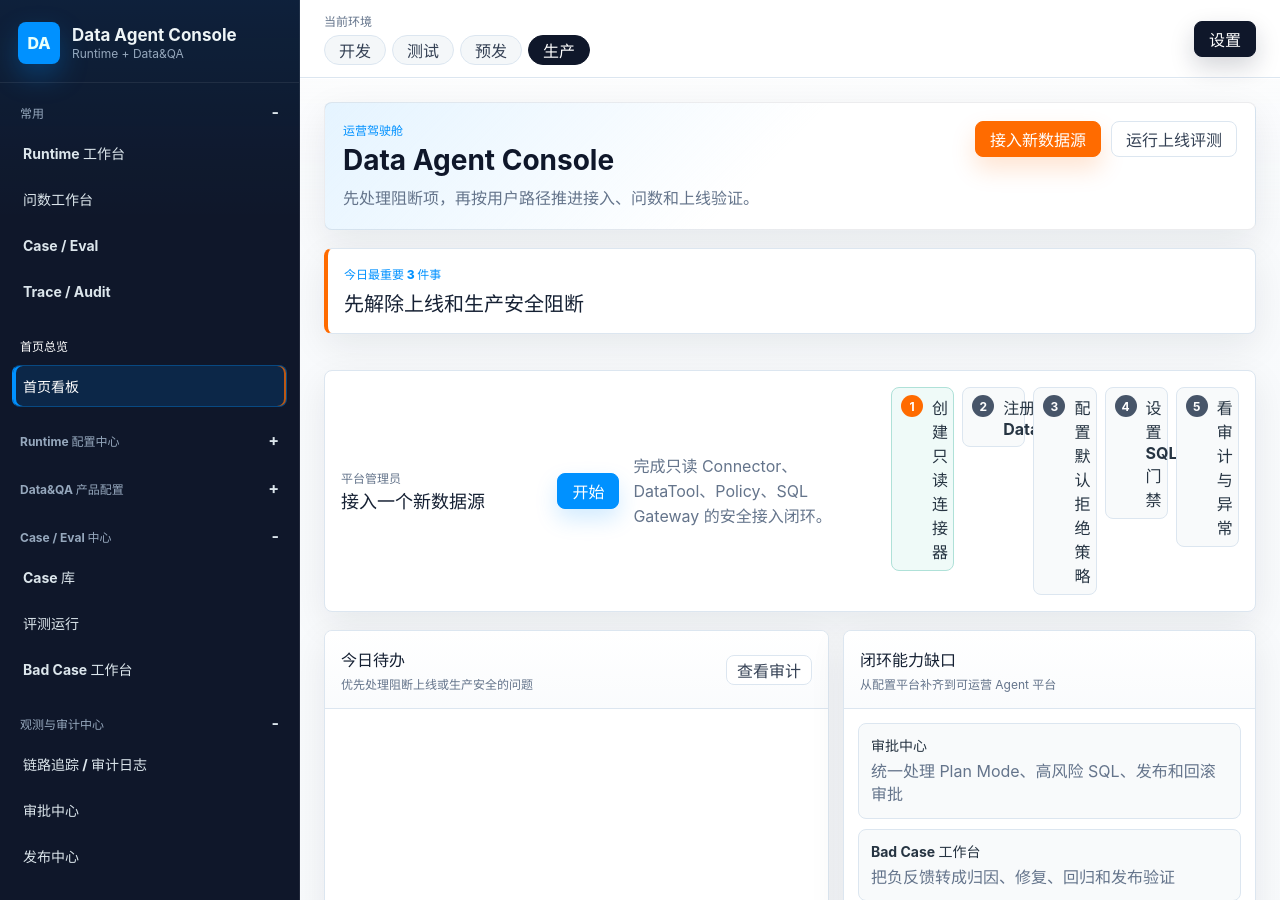
Scenario: Data Agent Console MVP › runs Data&QA workspace and routes negative feedback to Bad Case
Click the button "问数工作台" at (58, 200), box [12,178,287,220]
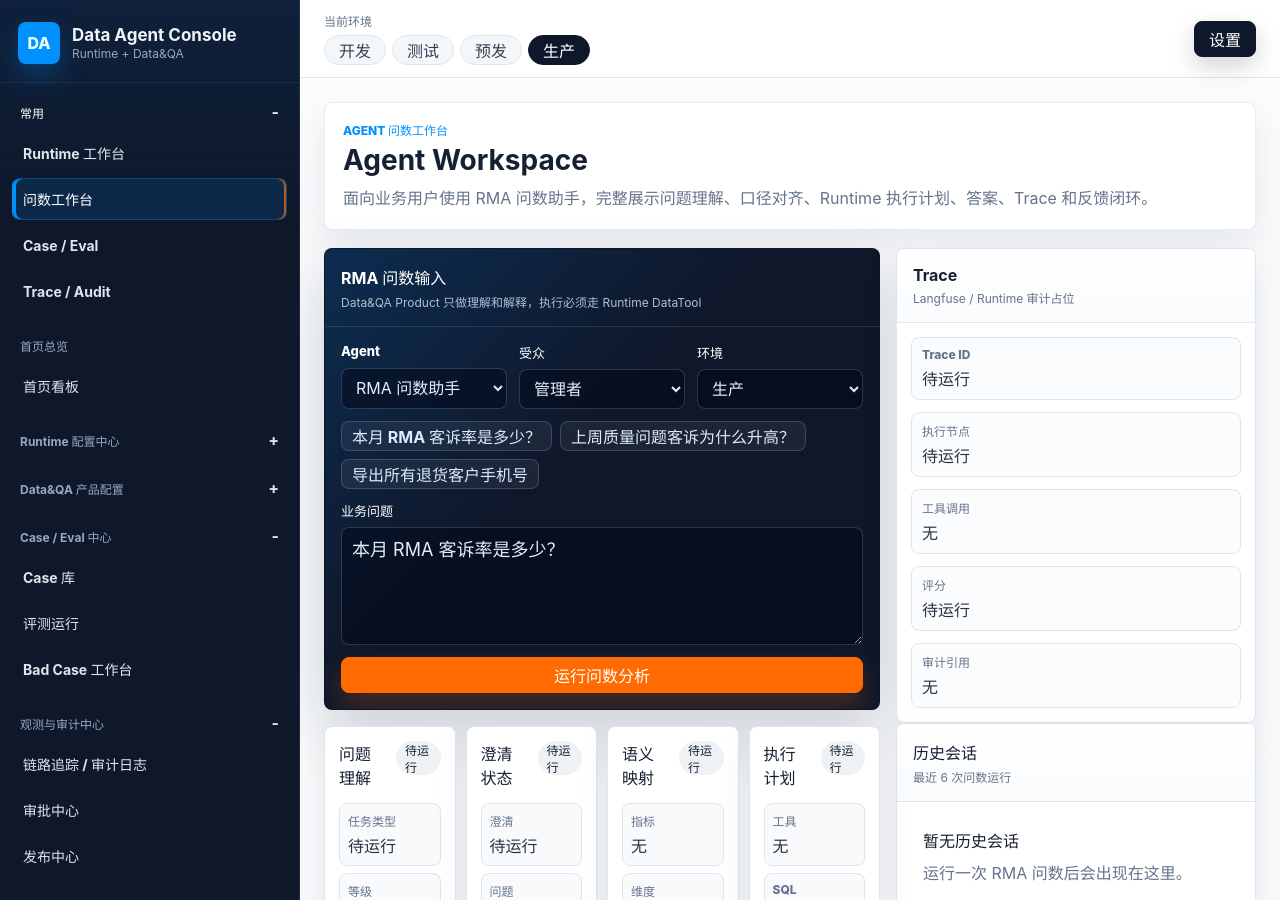
Click the button "运行问数分析" at (602, 675), box [341,657,863,693]
(page scrolled)
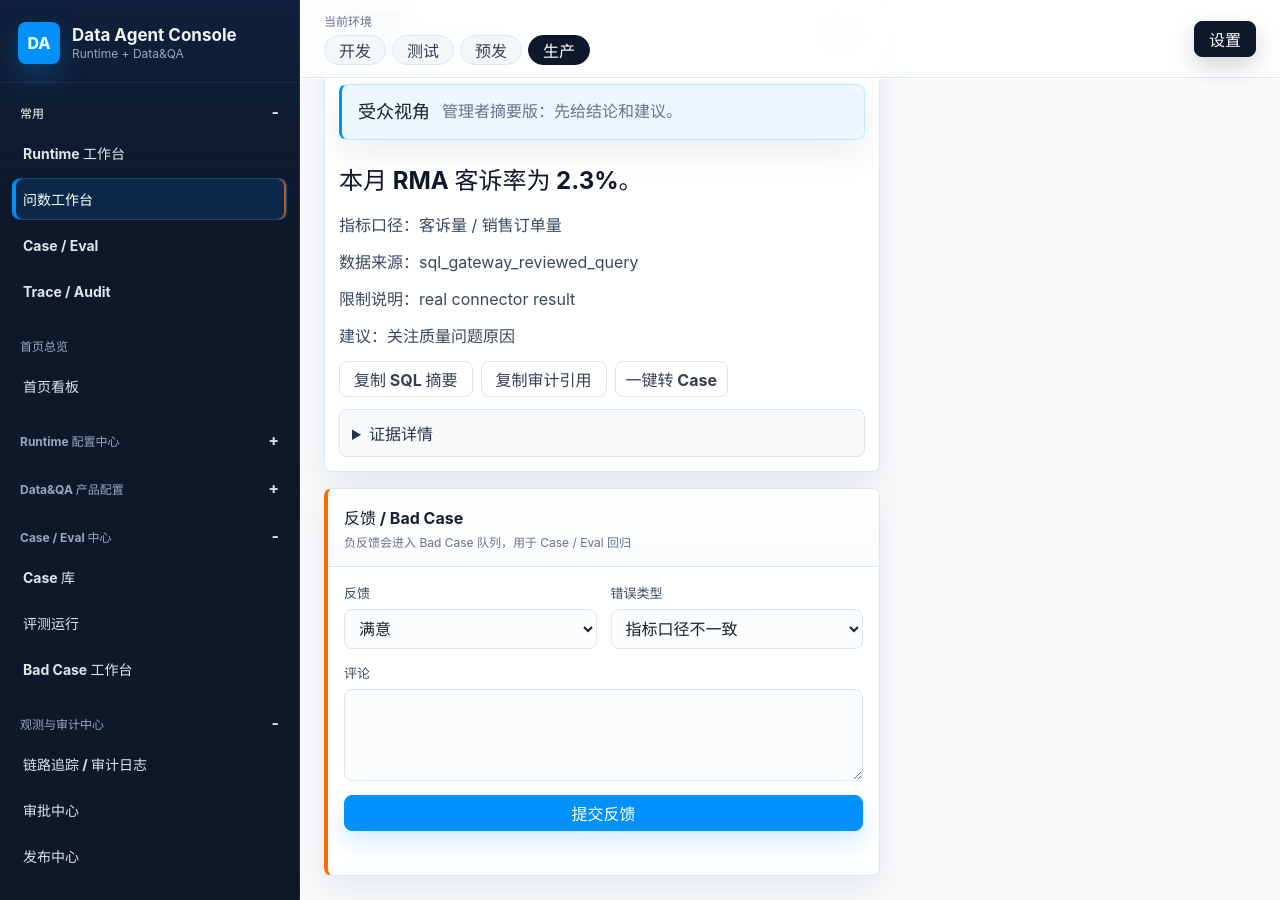
Now the text "本月 RMA 客诉率为 2.3%。" is shown, box [339,166,642,195]
Select "不满意 / 转 Bad Case" in the dropdown labelled "反馈" at (470, 629), box [344,609,596,649]
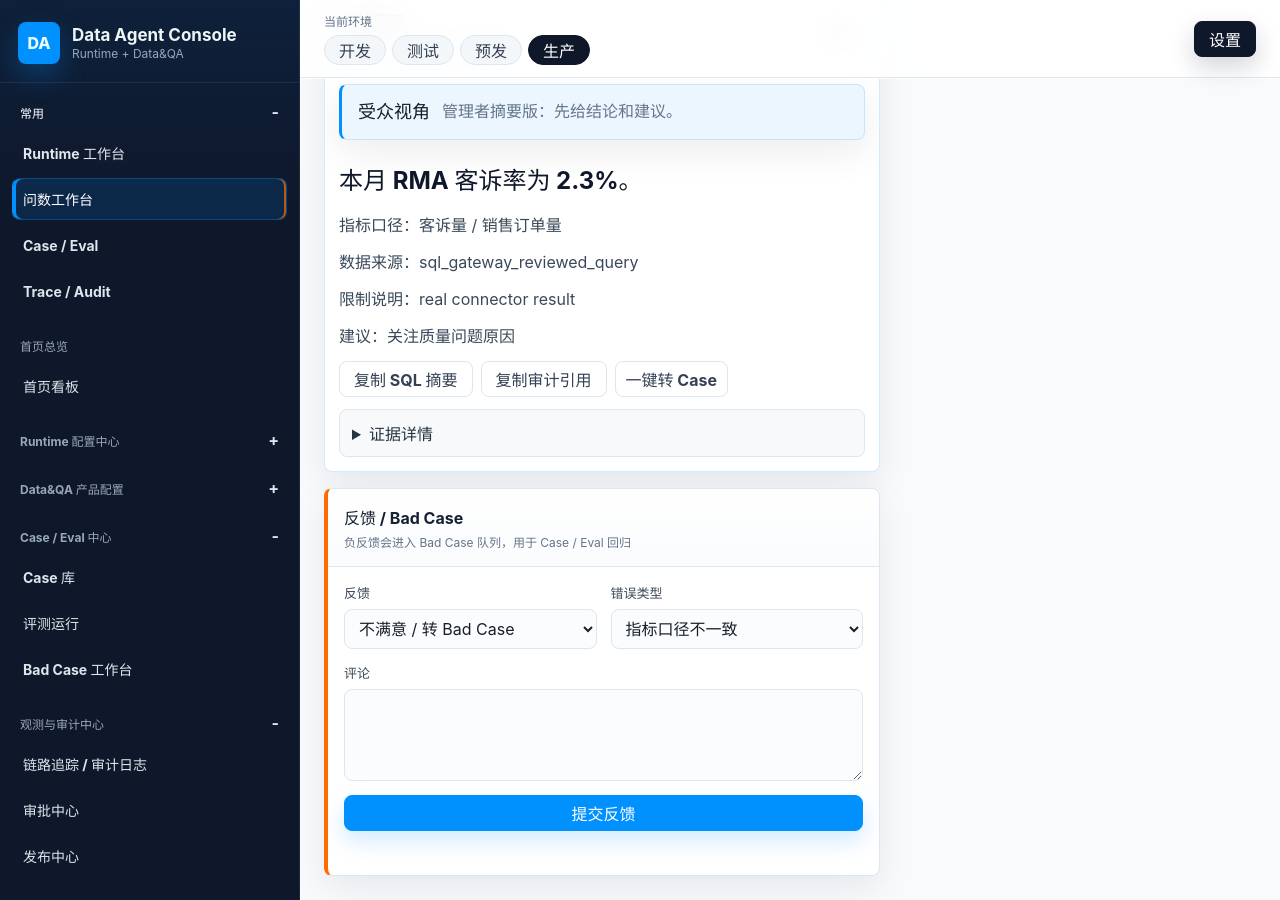
Click the button "提交反馈" at (604, 813), box [344,795,863,831]
(page scrolled)
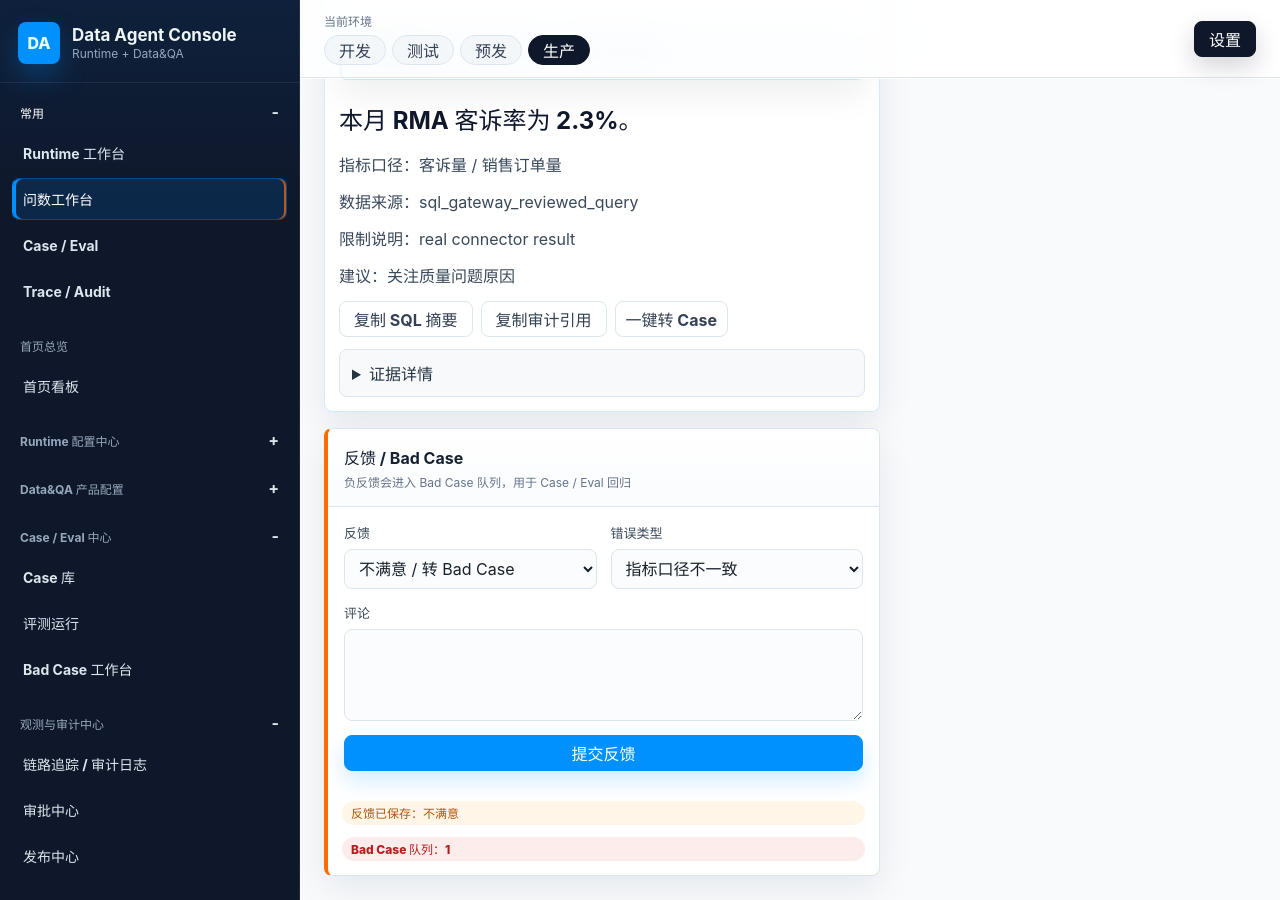
Now the text "Bad Case 队列：1" is shown, box [342,837,865,861]
